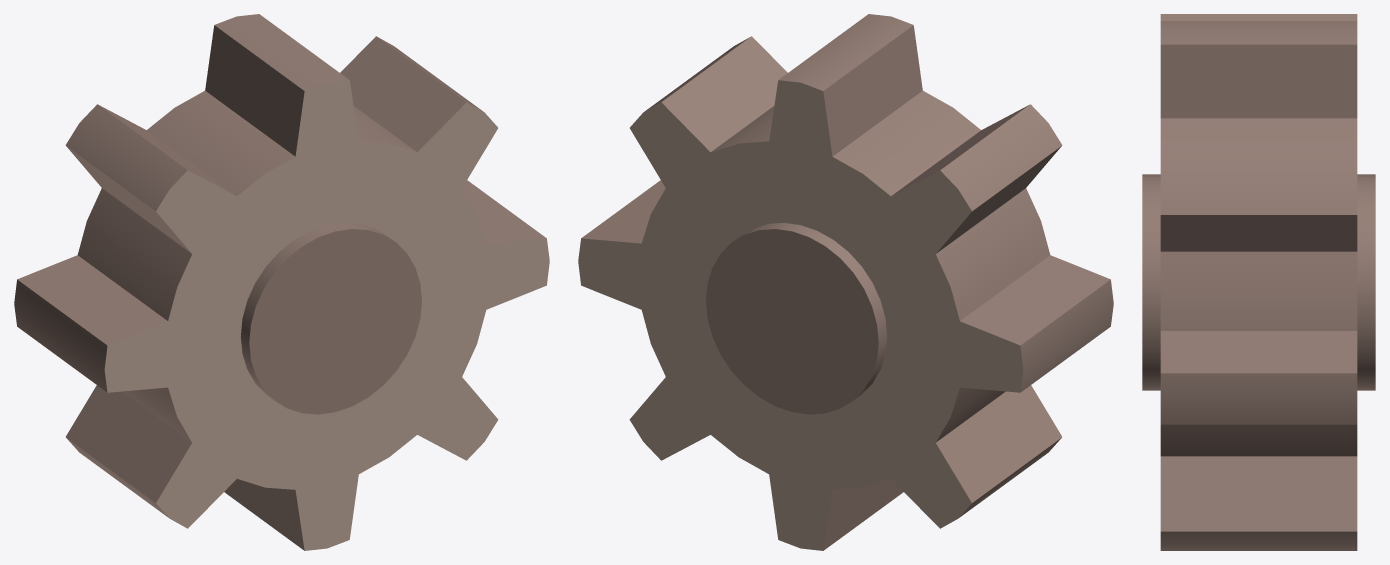
File: gear.fbx
3 views of the same model, side by side, from view 1: azimuth 30°, elevation 25°; view 2: azimuth 150°, elevation 25°; view 3: azimuth 270°, elevation 25° (orthographic). The views are drawn at different scales.
Visible parts, largest first — view 1: Cylinder.009; view 2: Cylinder.009; view 3: Cylinder.009.
Boxes of the visible parts, x1,y1,x2,y2 form: Cylinder.009: (14,14,549,550); Cylinder.009: (578,14,1113,550); Cylinder.009: (1142,14,1375,550).
Bounding box in the file's own units: 0.9895 × 0.9895 × 0.4131.
